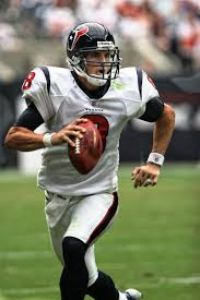futbol americano: (68, 118, 104, 174)
